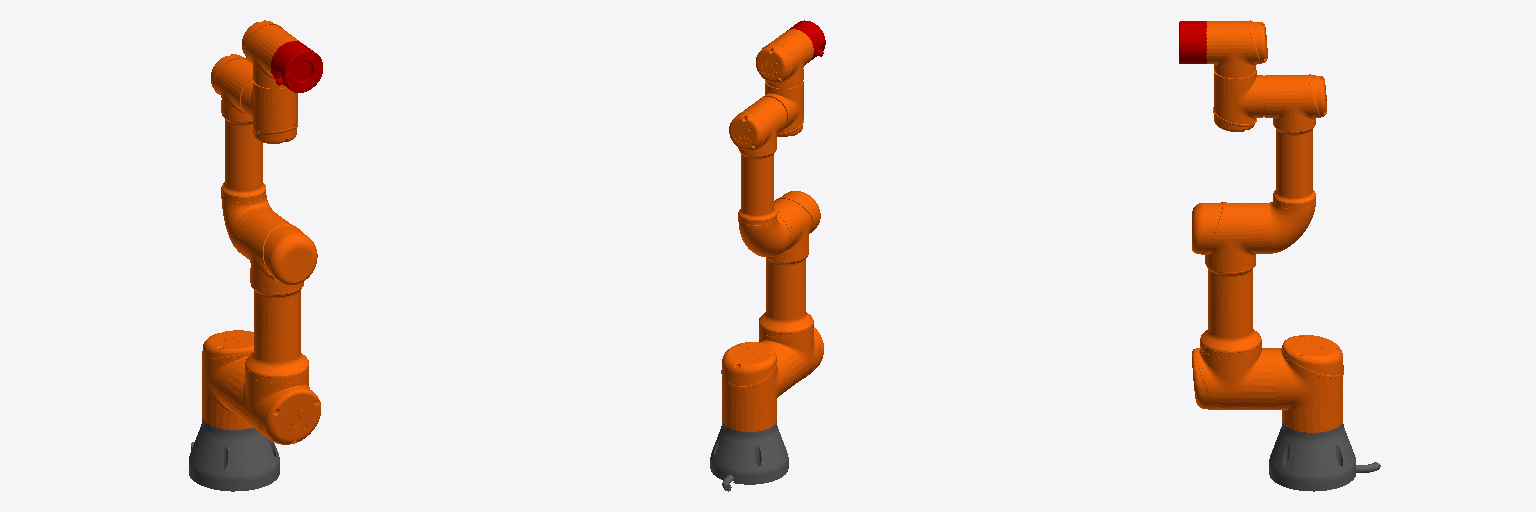
URDF robot description (UR3):
<?xml version="1.0" encoding="utf-8"?>
<!-- This URDF was automatically created by SolidWorks to URDF Exporter! Originally created by [author] ([email redacted]) 
     Commit Version: 1.6.0-1-g15f4949  Build Version: 1.6.7594.29634
     For more information, please see http://wiki.ros.org/sw_urdf_exporter -->
<robot
  name="UR3">
  
  <link name="world" />
  <joint name="world_joint" type="fixed">
    <parent link="world" />
    <child link = "base_link" />
    <origin xyz="0.0 0.0 0.0" rpy="3.1415926536 3.1415926536 0.0" />
  </joint>
  
  <link
    name="base_link">
    <inertial>
      <origin
        xyz="3.8372E-05 -0.00080955 0.04622"
        rpy="0 0 0" />
      <mass
        value="0.61578" />
      <inertia
        ixx="0.00076129"
        ixy="2.9387E-07"
        ixz="3.4791E-07"
        iyy="0.00077457"
        iyz="-3.4742E-06"
        izz="0.0010029" />
    </inertial>
    <visual>
      <origin
        xyz="0 0 0"
        rpy="0 0 0" />
      <geometry>
        <mesh
          filename="package://UR3/meshes/base_link.STL" />
      </geometry>
      <material
        name="Grey">
        <color
          rgba="0.4 0.4 0.4 1.0"/>
		<texture
          filename="package://UR3/textures/0.png" />
      </material>
    </visual>
    <collision>
      <origin
        xyz="0 0 0"
        rpy="0 0 0" />
      <geometry>
        <mesh
          filename="package://UR3/meshes/base_link.STL" />
      </geometry>
    </collision>
  </link>
  <link
    name="shoulder_link">
    <inertial>
      <origin
        xyz="6.6134E-06 0.0072751 -0.01157"
        rpy="0 0 0" />
      <mass
        value="0.75496" />
      <inertia
        ixx="0.0010673"
        ixy="-1.7198E-07"
        ixz="1.2409E-07"
        iyy="0.00098991"
        iyz="-0.00013061"
        izz="0.00090487" />
    </inertial>
    <visual>
      <origin
        xyz="0 0 0"
        rpy="0 0 0" />
      <geometry>
        <mesh
          filename="package://UR3/meshes/shoulder_link.STL" />
      </geometry>
      <material
        name="Orange">
        <color
          rgba="1.0 0.423529411765 0.0392156862745 1.0" />
		<texture
          filename="package://UR3/textures/1.png" />
      </material>
    </visual>
    <collision>
      <origin
        xyz="0 0 0"
        rpy="0 0 0" />
      <geometry>
        <mesh
          filename="package://UR3/meshes/shoulder_link.STL" />
      </geometry>
    </collision>
  </link>
  <joint
    name="shoulder_pan_joint"
    type="revolute">
    <origin
      xyz="0 0 0.1519"
      rpy="0 0 0" />
    <parent
      link="base_link" />
    <child
      link="shoulder_link" />
    <axis
      xyz="0 0 1" />
    <limit
      lower="-3.14"
      upper="3.14"
      effort="150"
      velocity="1.57" />
  </joint>
  <link
    name="upper_arm_link">
    <inertial>
      <origin
        xyz="-2.7508E-06 -0.0032541 0.10568"
        rpy="0 0 0" />
      <mass
        value="1.8002" />
      <inertia
        ixx="0.0026472"
        ixy="-1.2054E-07"
        ixz="1.7542E-07"
        iyy="0.0025148"
        iyz="-8.0826E-05"
        izz="0.0016697" />
    </inertial>
    <visual>
      <origin
        xyz="0 0 0"
        rpy="0 0 0" />
      <geometry>
        <mesh
          filename="package://UR3/meshes/upper_arm_link.STL" />
      </geometry>
      <material
        name="Orange">
        <color
          rgba="1.0 0.423529411765 0.0392156862745 1.0" />
		<texture
          filename="package://UR3/textures/2.png" />
      </material>
    </visual>
    <collision>
      <origin
        xyz="0 0 0"
        rpy="0 0 0" />
      <geometry>
        <mesh
          filename="package://UR3/meshes/upper_arm_link.STL" />
      </geometry>
    </collision>
  </link>
  <joint
    name="shoulder_lift_join"
    type="revolute">
    <origin
      xyz="0 0.11985 0"
      rpy="0 0 0" />
    <parent
      link="shoulder_link" />
    <child
      link="upper_arm_link" />
    <axis
      xyz="0 1 0" />
    <limit
      lower="-3.14"
      upper="3.14"
      effort="150"
      velocity="1.57" />
  </joint>
  <link
    name="forearm_link">
    <inertial>
      <origin
        xyz="1.86130767464698E-06 0.0050504102156036 0.111203258131293"
        rpy="0 0 0" />
      <mass
        value="0.962327239849504" />
      <inertia
        ixx="0.0010727233594452"
        ixy="1.86933270066241E-09"
        ixz="-6.59035926251097E-10"
        iyy="0.00101484199720974"
        iyz="4.61391602068538E-05"
        izz="0.000542735149271365" />
    </inertial>
    <visual>
      <origin
        xyz="0 0 0"
        rpy="0 0 0" />
      <geometry>
        <mesh
          filename="package://UR3/meshes/forearm_link.STL" />
      </geometry>
      <material
        name="Orange">
        <color
          rgba="1.0 0.423529411765 0.0392156862745 1.0" />
		<texture
          filename="package://UR3/textures/3.png" />
      </material>
    </visual>
    <collision>
      <origin
        xyz="0 0 0"
        rpy="0 0 0" />
      <geometry>
        <mesh
          filename="package://UR3/meshes/forearm_link.STL" />
      </geometry>
    </collision>
  </link>
  <joint
    name="elbow_joint"
    type="revolute">
    <origin
      xyz="0 -0.093211 0.24365"
      rpy="0 0 0" />
    <parent
      link="upper_arm_link" />
    <child
      link="forearm_link" />
    <axis
      xyz="0 1 0" />
    <limit
      lower="-3.14"
      upper="3.14"
      effort="150"
      velocity="1.57" />
  </joint>
  <link
    name="wrist_1_link">
    <inertial>
      <origin
        xyz="-5.7002E-06 0.081177 -0.0007955"
        rpy="0 0 0" />
      <mass
        value="0.32531" />
      <inertia
        ixx="0.00022623"
        ixy="3.2028E-10"
        ixz="-9.1012E-10"
        iyy="0.0001946"
        iyz="-1.8337E-05"
        izz="0.00019911" />
    </inertial>
    <visual>
      <origin
        xyz="0 0 0"
        rpy="0 0 0" />
      <geometry>
        <mesh
          filename="package://UR3/meshes/wrist_1_link.STL" />
      </geometry>
      <material
        name="Orange">
        <color
          rgba="1.0 0.423529411765 0.0392156862745 1.0" />
		<texture
          filename="package://UR3/textures/4.png" />
      </material>
    </visual>
    <collision>
      <origin
        xyz="0 0 0"
        rpy="0 0 0" />
      <geometry>
        <mesh
          filename="package://UR3/meshes/wrist_1_link.STL" />
      </geometry>
    </collision>
  </link>
  <joint
    name="wrist_1_joint"
    type="revolute">
    <origin
      xyz="0 0 0.213"
      rpy="0 0 0" />
    <parent
      link="forearm_link" />
    <child
      link="wrist_1_link" />
    <axis
      xyz="0 1 0" />
    <limit
      lower="-3.14"
      upper="3.14"
      effort="28"
      velocity="3.14" />
  </joint>
  <link
    name="wrist_2_link">
    <inertial>
      <origin
        xyz="5.7002E-06 -0.0007955 0.081177"
        rpy="0 0 0" />
      <mass
        value="0.32531" />
      <inertia
        ixx="0.00022623"
        ixy="4.0289E-10"
        ixz="4.8635E-10"
        iyy="0.00019911"
        iyz="-1.8337E-05"
        izz="0.0001946" />
    </inertial>
    <visual>
      <origin
        xyz="0 0 0"
        rpy="0 0 0" />
      <geometry>
        <mesh
          filename="package://UR3/meshes/wrist_2_link.STL" />
      </geometry>
      <material
        name="Orange">
        <color
          rgba="1.0 0.423529411765 0.0392156862745 1.0" />
		<texture
          filename="package://UR3/textures/5.png" />
      </material>
    </visual>
    <collision>
      <origin
        xyz="0 0 0"
        rpy="0 0 0" />
      <geometry>
        <mesh
          filename="package://UR3/meshes/wrist_2_link.STL" />
      </geometry>
    </collision>
  </link>
  <joint
    name="wrist_2_joint"
    type="revolute">
    <origin
      xyz="0 0.0871 0"
      rpy="0 0 0" />
    <parent
      link="wrist_1_link" />
    <child
      link="wrist_2_link" />
    <axis
      xyz="0 0 1" />
    <limit
      lower="-3.14"
      upper="3.14"
      effort="28"
      velocity="3.14" />
  </joint>
  <link
    name="wrist_3_link">
    <inertial>
      <origin
        xyz="-9.3892E-05 0.061173 4.3066E-05"
        rpy="0 0 0" />
      <mass
        value="0.11536" />
      <inertia
        ixx="4.2644E-05"
        ixy="9.3825E-08"
        ixz="-8.0577E-08"
        iyy="5.9067E-05"
        iyz="-4.3032E-08"
        izz="4.2506E-05" />
    </inertial>
    <visual>
      <origin
        xyz="0 0 0"
        rpy="0 0 0" />
      <geometry>
        <mesh
          filename="package://UR3/meshes/wrist_3_link.STL" />
      </geometry>
      <material
        name="Red">
        <color
          rgba="0.8 0.0 0.0 1.0"/>
		<texture
          filename="package://UR3/textures/6.png" />
      </material>
    </visual>
    <collision>
      <origin
        xyz="0 0 0"
        rpy="0 0 0" />
      <geometry>
        <mesh
          filename="package://UR3/meshes/wrist_3_link.STL" />
      </geometry>
    </collision>
  </link>
  <joint
    name="wrist_3_joint"
    type="revolute">
    <origin
      xyz="0 0 0.0871"
      rpy="0 0 0" />
    <parent
      link="wrist_2_link" />
    <child
      link="wrist_3_link" />
    <axis
      xyz="0 1 0" />
    <limit
      lower="-3.14"
      upper="3.14"
      effort="28"
      velocity="3.14" />
  </joint>
  
  <!--new add content -->
  <link name="ee_link">
    <collision>
      <geometry>
        <box size="0.01 0.01 0.01"/>
      </geometry>
      <origin rpy="0 0 0" xyz="-0.01 0 0"/>
    </collision>
  </link>
  
  <joint name="ee_fixed_joint" type="fixed">
    <parent link="wrist_3_link"/>
    <child link="ee_link"/>
    <origin rpy="0.0 0.0 1.57079632679" xyz="0.0 0.04436 0.0"/>
  </joint>
  
	
      <!-- Frame coincident with all-zeros TCP on ROCR6 controller -->
  <link name="tool0"/>
  <joint name="wrist_3_link-tool0_fixed_joint" type="fixed">
    <origin rpy="-1.57079632679 0 0" xyz="0 0.04436 0"/>
    <parent link="wrist_3_link"/>
    <child link="tool0"/>
  </joint>
</robot>

--- Render facts (derived) ---
Views: 3 orthographic renders of the robot side by side, from view 1: azimuth 30°, elevation 25°; view 2: azimuth 150°, elevation 25°; view 3: azimuth 270°, elevation 25°.
Robot: UR3 — 10 links, 9 joints (6 revolute, 3 fixed); root link world; default pose: all joints at 0.
Links seen in each view (by area): view 1: upper_arm_link, forearm_link, base_link, shoulder_link, wrist_1_link, wrist_3_link, wrist_2_link; view 2: upper_arm_link, forearm_link, shoulder_link, base_link, wrist_2_link, wrist_1_link, wrist_3_link; view 3: upper_arm_link, forearm_link, shoulder_link, base_link, wrist_2_link, wrist_1_link, wrist_3_link.
Link boxes in pixels (x1=…): upper_arm_link: x1=226, y1=211, x2=320, y2=444; forearm_link: x1=211, y1=54, x2=276, y2=255; base_link: x1=189, y1=418, x2=279, y2=491; shoulder_link: x1=202, y1=330, x2=253, y2=429; wrist_1_link: x1=241, y1=80, x2=297, y2=143; wrist_3_link: x1=271, y1=41, x2=322, y2=92; wrist_2_link: x1=242, y1=20, x2=299, y2=88; upper_arm_link: x1=759, y1=191, x2=823, y2=391; forearm_link: x1=729, y1=97, x2=792, y2=256; shoulder_link: x1=721, y1=342, x2=789, y2=431; base_link: x1=710, y1=422, x2=788, y2=491; wrist_2_link: x1=756, y1=29, x2=813, y2=88; wrist_1_link: x1=762, y1=81, x2=803, y2=136; wrist_3_link: x1=787, y1=20, x2=825, y2=59; upper_arm_link: x1=1192, y1=202, x2=1275, y2=409; forearm_link: x1=1260, y1=74, x2=1326, y2=253; shoulder_link: x1=1276, y1=335, x2=1343, y2=432; base_link: x1=1269, y1=422, x2=1380, y2=491; wrist_2_link: x1=1206, y1=20, x2=1267, y2=78; wrist_1_link: x1=1213, y1=70, x2=1264, y2=131; wrist_3_link: x1=1179, y1=21, x2=1206, y2=63.
Size in the robot's own frame: 0.1279 by 0.2948 by 0.7287 metres.
7 mesh visuals loaded from 7 distinct referenced files (7 binary STL).
